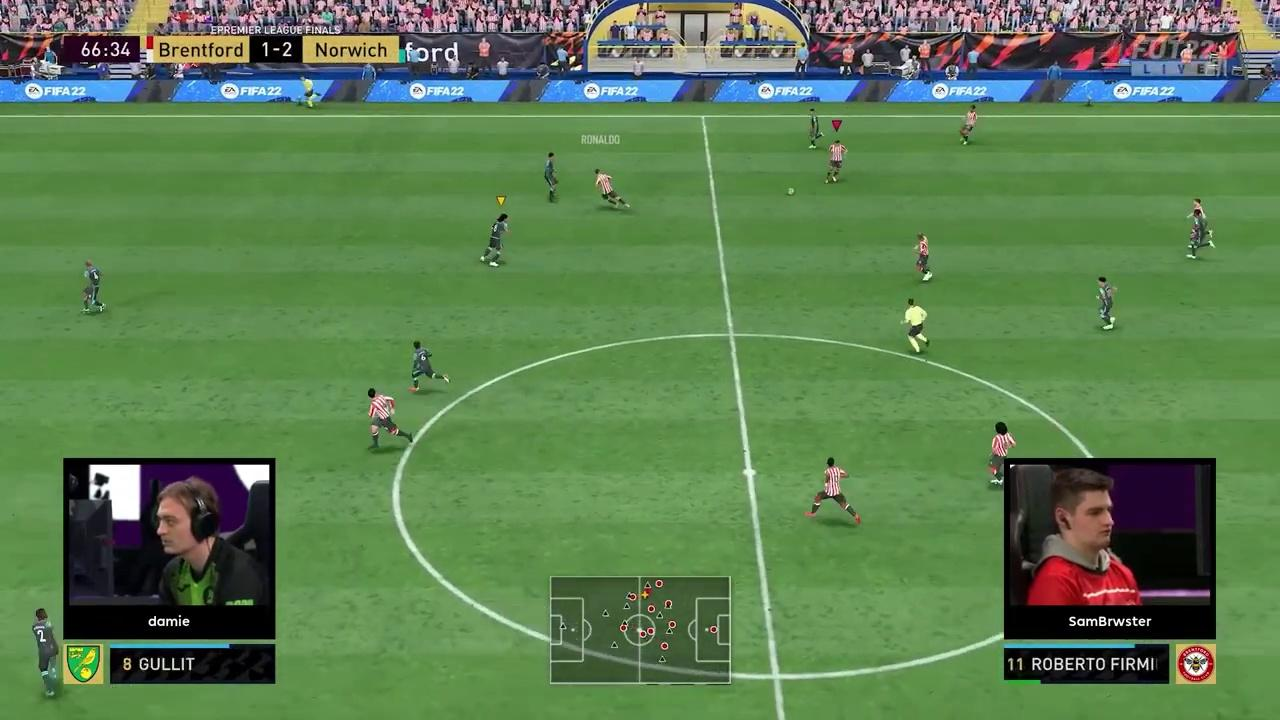scoreboard: (145, 34, 404, 62)
timestamp: (57, 34, 141, 60)
